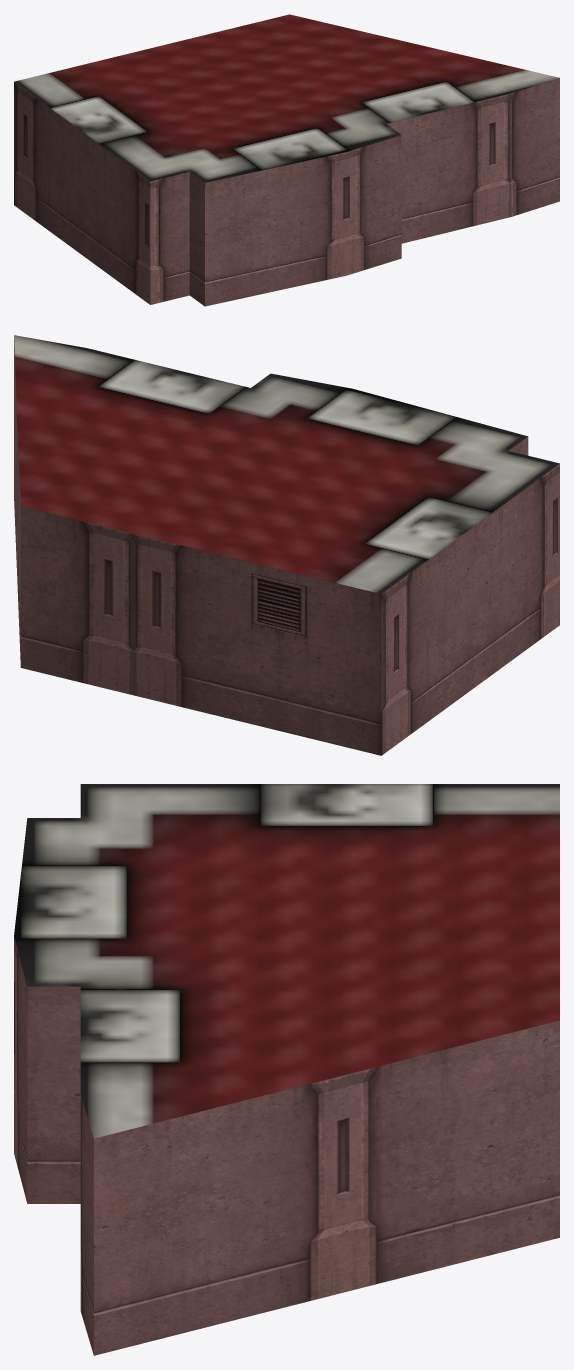
Rendered from hardened_roof03.glb.
3 renders of one model, top to bottom at view 1: azimuth 30°, elevation 25°; view 2: azimuth 150°, elevation 25°; view 3: azimuth 270°, elevation 25°, orthographic. The views are drawn at different scales.
Parts seen in each view (by area): view 1: buildings/saxarba/hard/hardened_roof03; view 2: buildings/saxarba/hard/hardened_roof03; view 3: buildings/saxarba/hard/hardened_roof03.
Part boxes in pixels (x1,y1,x2,y2): buildings/saxarba/hard/hardened_roof03: (14, 14, 559, 306); buildings/saxarba/hard/hardened_roof03: (14, 335, 559, 755); buildings/saxarba/hard/hardened_roof03: (14, 784, 559, 1355).
Size of the model in its own units: 63 by 18 by 41.
